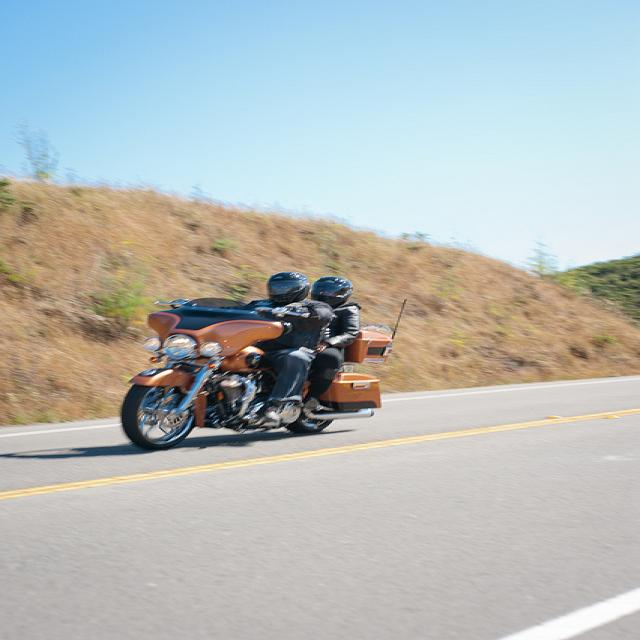motor: (117, 296, 408, 450)
